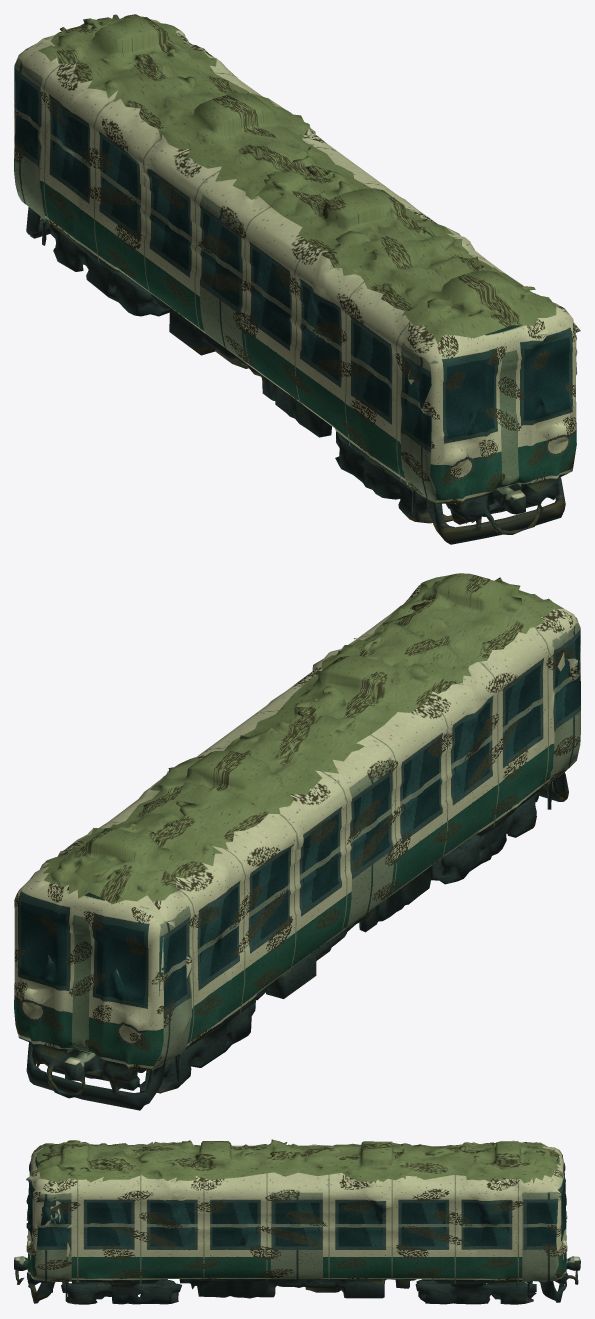
Rendered from station_train.glb.
3 renders of one model, top to bottom at view 1: azimuth 30°, elevation 25°; view 2: azimuth 150°, elevation 25°; view 3: azimuth 270°, elevation 25°, orthographic. The views are drawn at different scales.
Parts seen in each view (by area): view 1: Hunyuan_train_game; view 2: Hunyuan_train_game; view 3: Hunyuan_train_game.
Part boxes in pixels (left/top/right/bottom): Hunyuan_train_game: left=14, top=14, right=580, bottom=544; Hunyuan_train_game: left=14, top=573, right=580, bottom=1110; Hunyuan_train_game: left=14, top=1139, right=580, bottom=1304.
Size of the model in its own units: 3 by 4 by 14.5.
4 materials, 4 textured.
